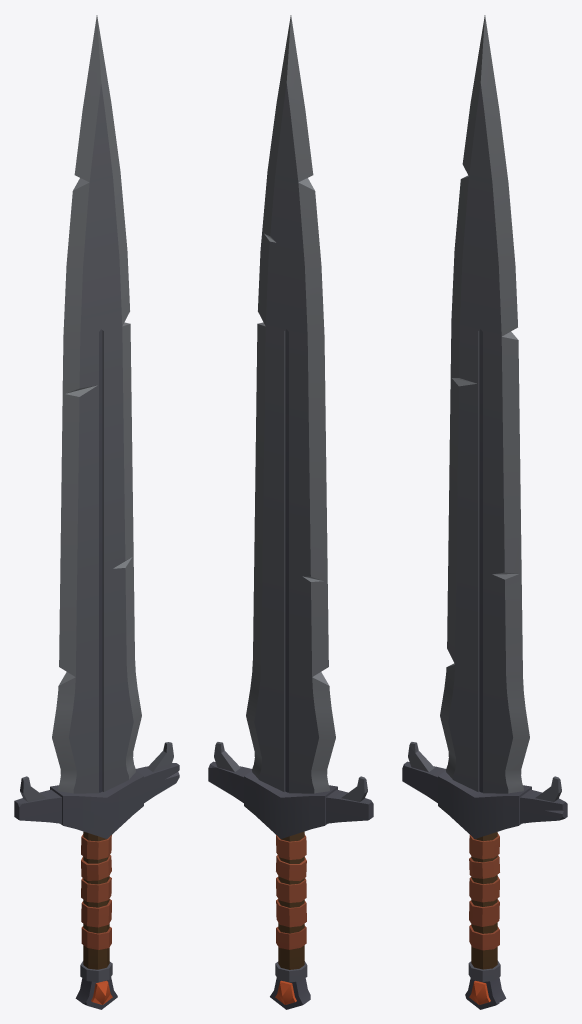
Rendered from Weapon_02.glb.
The picture shows the model from 3 angles, left to right: view 1: azimuth 30°, elevation 25°; view 2: azimuth 150°, elevation 25°; view 3: azimuth 330°, elevation 25°; orthographic projection.
Visible parts, largest first — view 1: Weapon_02_LOD0; view 2: Weapon_02_LOD0; view 3: Weapon_02_LOD0.
Boxes of the visible parts, x1,y1,x2,y2 form: Weapon_02_LOD0: (14, 15, 179, 1009); Weapon_02_LOD0: (208, 15, 373, 1009); Weapon_02_LOD0: (402, 15, 567, 1009).
Size of what is drawn, in the model's own units: 0.1942 by 1.15 by 0.0427.
Materials: 1 (1 with a texture image).
